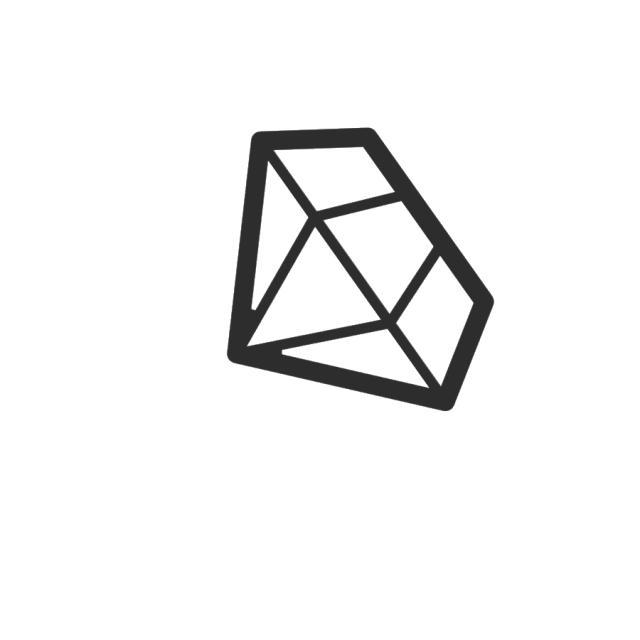diamond: (219, 120, 502, 419)
